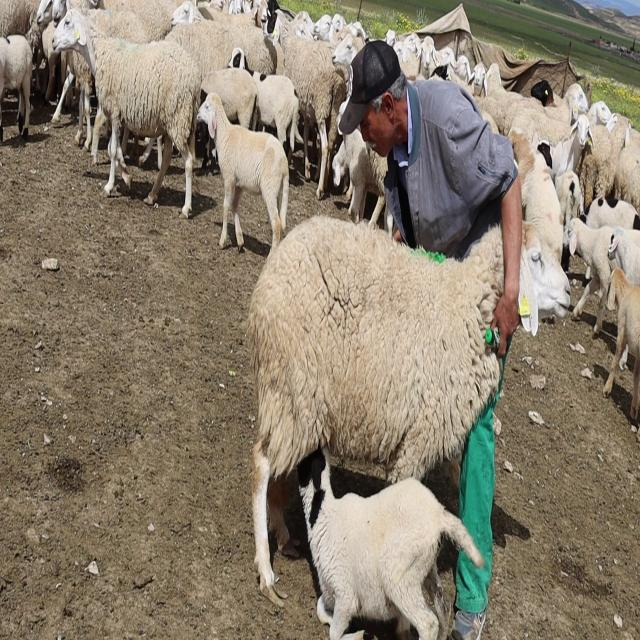Score_5: (247, 216, 504, 606)
